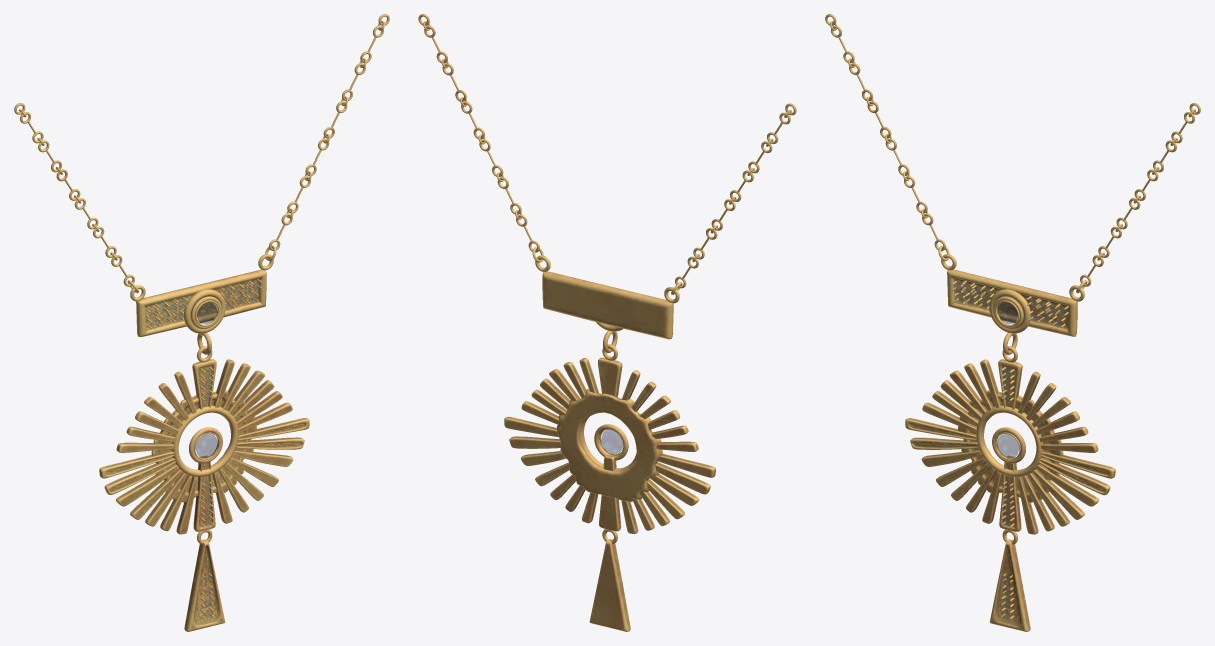
File: necklace_b.glb
The picture shows the model from 3 angles, left to right: view 1: azimuth 30°, elevation 25°; view 2: azimuth 150°, elevation 25°; view 3: azimuth 330°, elevation 25°; orthographic projection.
Visible parts, largest first — view 1: sun rays_L, Plate_L, chain_L, Flower_L, outer rings_L, iner ring_L, small gem_L_Gem_0, gem bases_L, Big Gem_L; view 2: sun rays_L, Plate_L, Flower_L, chain_L, outer rings_L; view 3: sun rays_L, Plate_L, chain_L, Flower_L, outer rings_L, iner ring_L, small gem_L_Gem_0, gem bases_L, Big Gem_L.
Boxes of the visible parts, x1,y1,x2,y2 form: sun rays_L: [99, 359, 309, 534]; Plate_L: [136, 269, 266, 631]; chain_L: [14, 14, 389, 301]; Flower_L: [151, 390, 256, 502]; outer rings_L: [184, 289, 225, 463]; iner ring_L: [171, 405, 238, 476]; small gem_L_Gem_0: [149, 282, 260, 618]; gem bases_L: [145, 279, 261, 619]; Big Gem_L: [196, 302, 218, 458]; sun rays_L: [504, 357, 715, 533]; Plate_L: [542, 271, 673, 631]; Flower_L: [557, 389, 662, 501]; chain_L: [418, 14, 796, 303]; outer rings_L: [594, 322, 628, 460]; sun rays_L: [905, 359, 1115, 534]; Plate_L: [947, 269, 1077, 631]; chain_L: [825, 14, 1200, 301]; Flower_L: [958, 390, 1063, 502]; outer rings_L: [989, 289, 1030, 463]; iner ring_L: [976, 405, 1043, 477]; small gem_L_Gem_0: [953, 284, 1064, 618]; gem bases_L: [952, 281, 1068, 619]; Big Gem_L: [996, 302, 1018, 458].
Size of the model in its own units: 0.6503 by 0.9374 by 0.0407.
Materials: 2 (2 with a texture image).
